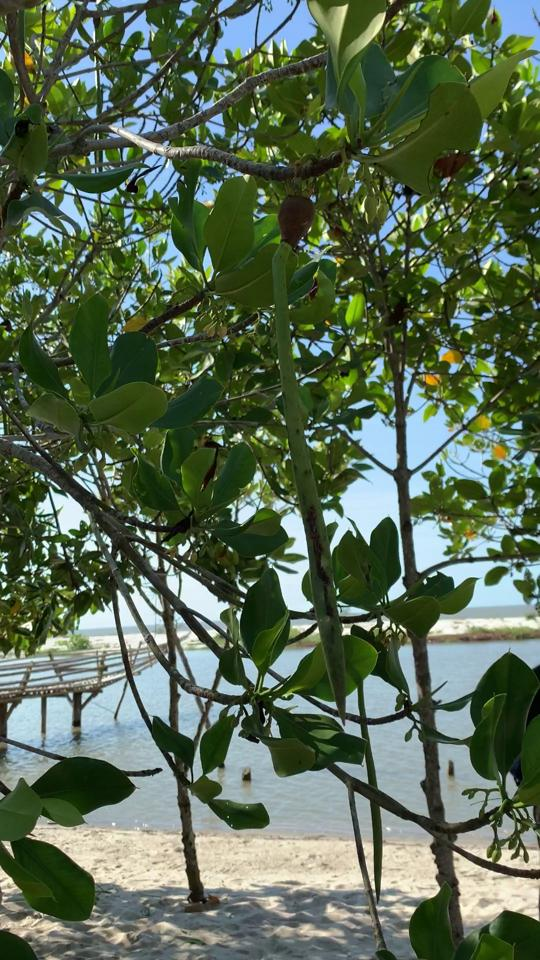setengah matang: (257, 182, 360, 729)
